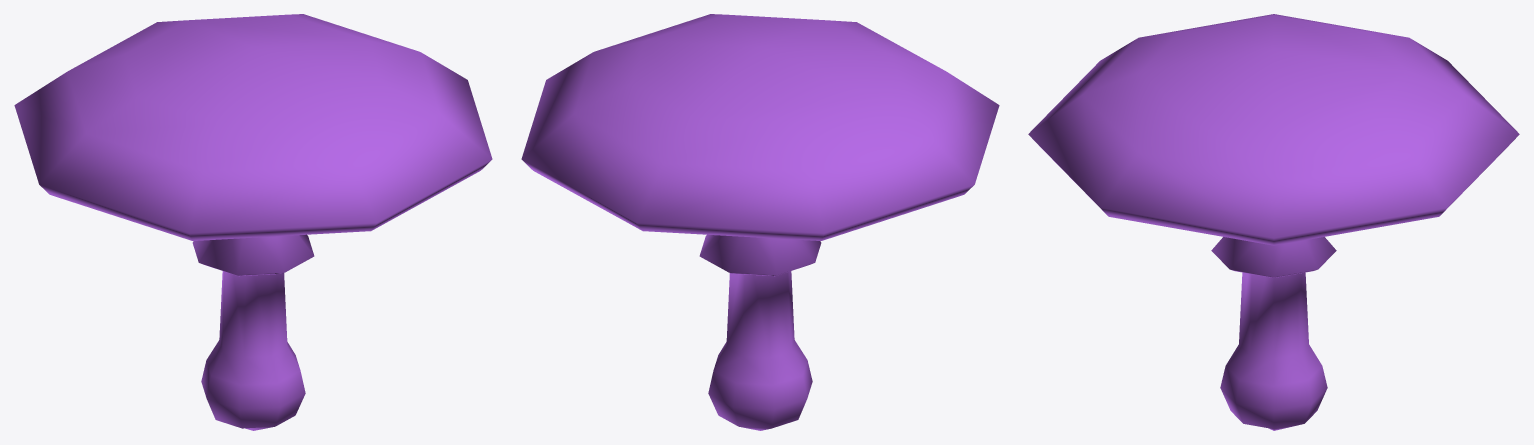
Rendered from MushRoom01.fbx.
The picture shows the model from 3 angles, left to right: view 1: azimuth 30°, elevation 25°; view 2: azimuth 150°, elevation 25°; view 3: azimuth 270°, elevation 25°; orthographic projection.
Visible parts, largest first — view 1: MushRoom01; view 2: MushRoom01; view 3: MushRoom01.
Part boxes in pixels (bbox=[...]): MushRoom01: bbox=[14, 14, 492, 430]; MushRoom01: bbox=[521, 14, 999, 430]; MushRoom01: bbox=[1028, 14, 1519, 430].
Size of the model in its own units: 26.72 by 22.83 by 26.72.
